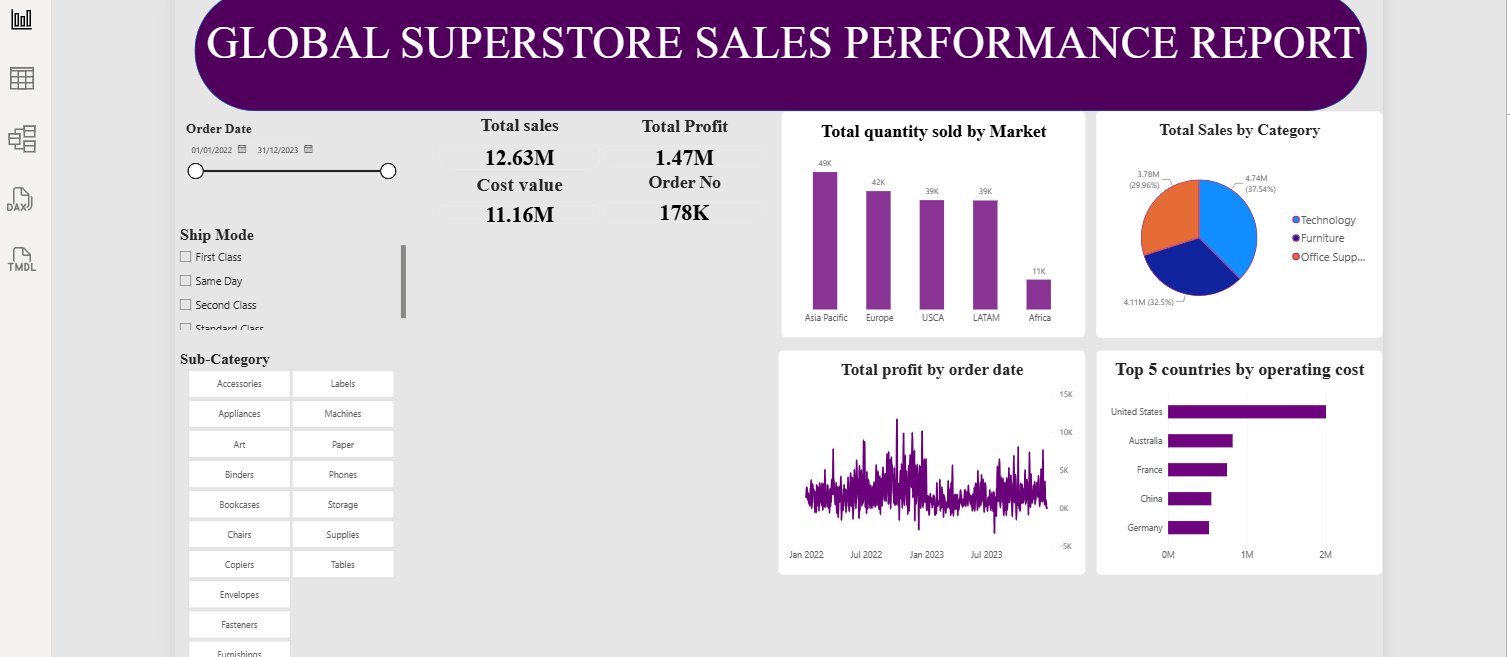

The dashboard page shown, as its layout file describes it:
{"tool":"powerbi","page":{"name":"Page 1","canvas":[1920,1080],"ordinal":0},"visuals":[{"type":"shape","box":[31.2,0,1865.2,192.8],"z":0},{"type":"textbox","box":[50.1,291.1,610.8,140.8],"z":1000},{"type":"textbox","box":[51,42.5,1868,150.2],"z":2000},{"type":"clusteredColumnChart","title":"Total quantity sold by Market","fields":{"Category":["Orders.Market"],"Y":["Sum(Orders.Quantity)"]},"box":[963.9,193.3,484.3,360.3],"z":3000},{"type":"pieChart","title":"Total Sales by Category","fields":{"Category":["Orders.Category"],"Y":["Sum(Orders.Sales)"]},"box":[1465,193.3,455.7,360.3],"z":4000},{"type":"lineChart","title":"Total profit by order date","fields":{"Category":["Orders.Order Date.Variation.Date Hierarchy.Year","Orders.Order Date.Variation.Date Hierarchy.Quarter","Orders.Order Date.Variation.Date Hierarchy.Month","Orders.Order Date.Variation.Date Hierarchy.Day"],"Y2":["Sum(Orders.Profit)"]},"box":[959.1,572.6,489.1,357.9],"z":5000},{"type":"clusteredBarChart","title":"Top 5 countries by operating cost","fields":{"Category":["Orders.Country"],"Y":["Sum(Orders.Operating cost)"]},"box":[1465,572.6,455.7,357.9],"z":6000},{"type":"cardVisual","title":"Total sales","fields":{"Data":["Sum(Orders.Sales)"]},"box":[417.5,198,260.1,90.7],"z":7000},{"type":"cardVisual","title":"Total Profit","fields":{"Data":["Sum(Orders.Profit)"]},"box":[677.6,200.4,264.8,83.5],"z":8000},{"type":"cardVisual","title":"Cost value","fields":{"Data":["Sum(Orders.Operating cost)"]},"box":[417.5,291.1,260.1,83.5],"z":9000},{"type":"cardVisual","title":"Order No","fields":{"Data":["Sum(Orders.Quantity)"]},"box":[677.6,288.7,264.8,83.5],"z":10000},{"type":"slicer","fields":{"Values":["Orders.Order Date"]},"box":[9.5,207.6,346,150.3],"z":11000},{"type":"slicer","fields":{"Values":["Orders.Ship Mode"]},"box":[0,374.6,367.4,164.6],"z":12000},{"type":"slicer","fields":{"Values":["Orders.Sub-Category"]},"box":[0,572.6,367.4,508.2],"z":13000}]}

Visuals, with their boxes on the page's 1920x1080 design canvas (x1, y1, x2, y2). These are canvas units, not pixel positions in the 1510x657 screenshot, which may show the page scaled, cropped or inside an application window:
shape: 31:0:1896:193
textbox: 50:291:661:432
textbox: 51:42:1919:193
"Total quantity sold by Market" clusteredColumnChart: 964:193:1448:554
"Total Sales by Category" pieChart: 1465:193:1921:554
"Total profit by order date" lineChart: 959:573:1448:930
"Top 5 countries by operating cost" clusteredBarChart: 1465:573:1921:930
"Total sales" cardVisual: 418:198:678:289
"Total Profit" cardVisual: 678:200:942:284
"Cost value" cardVisual: 418:291:678:375
"Order No" cardVisual: 678:289:942:372
slicer - Orders.Order Date: 10:208:356:358
slicer - Orders.Ship Mode: 0:375:367:539
slicer - Orders.Sub-Category: 0:573:367:1081
